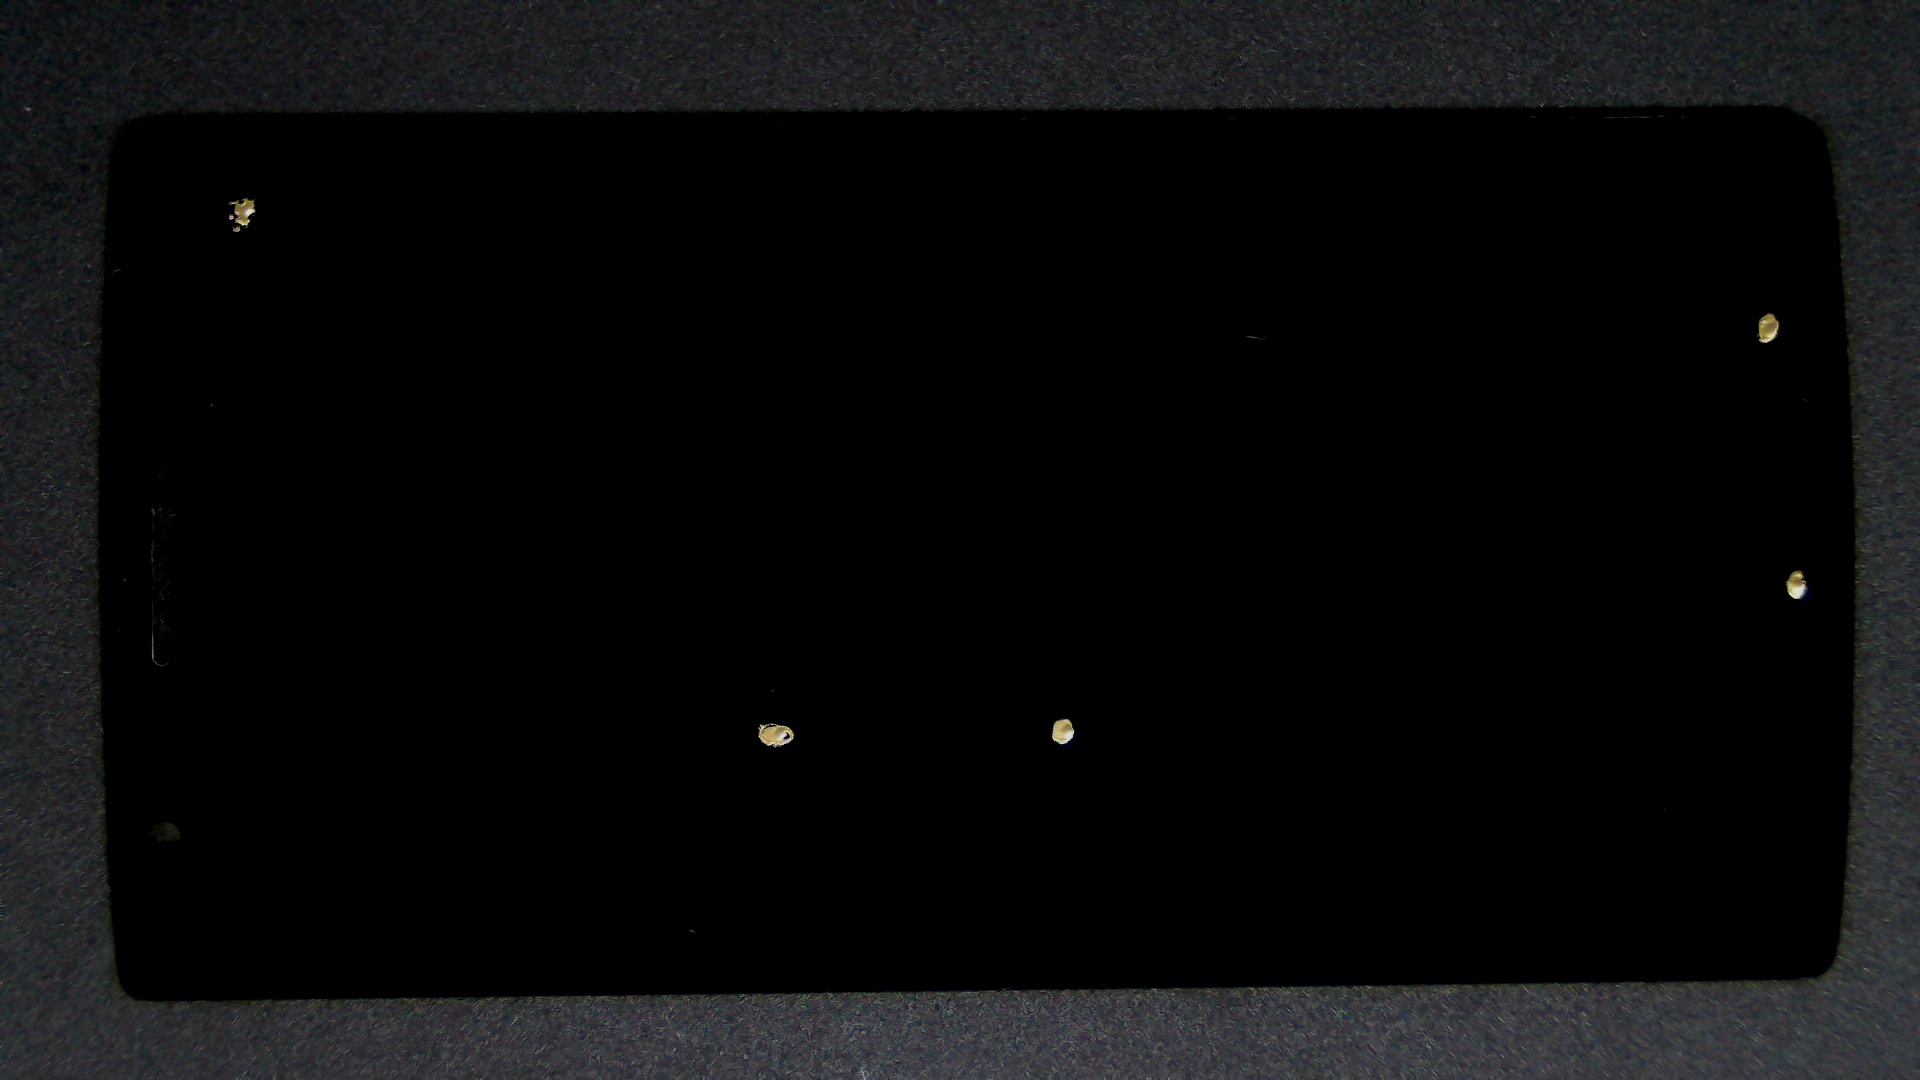oil: (530, 357, 1589, 1075), (901, 284, 1920, 852), (381, 360, 1139, 1080), (884, 156, 1920, 467), (121, 98, 363, 294)
